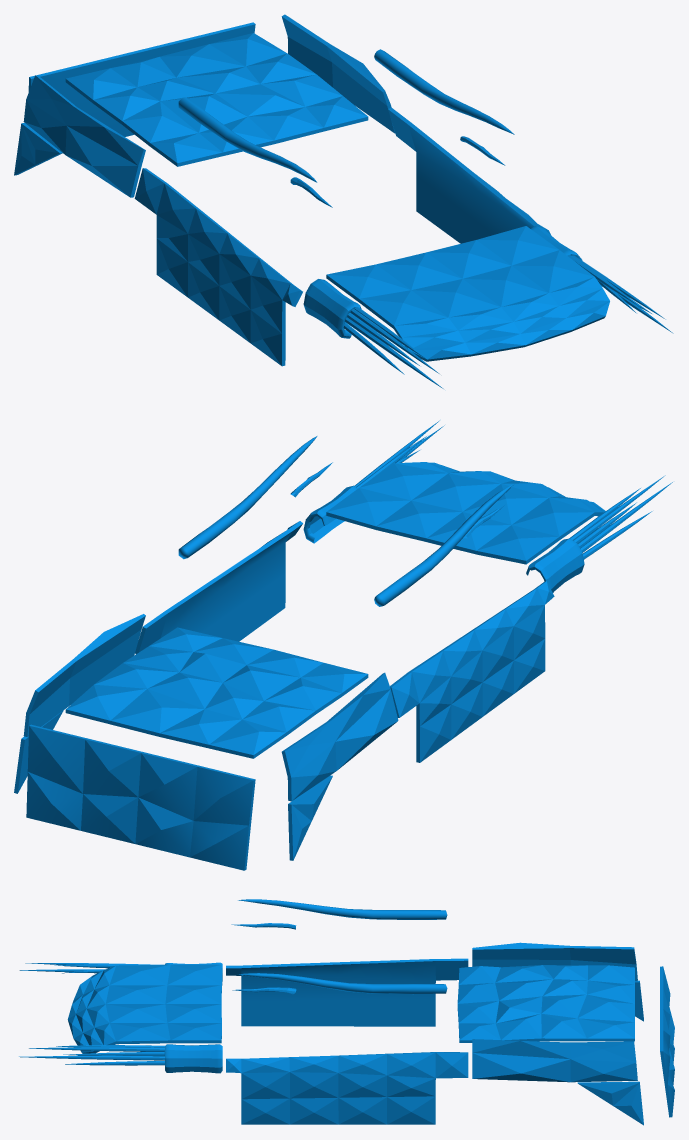
The model's file is Truck Armor.fbx.
3 views of the same model, one above another, from view 1: azimuth 30°, elevation 25°; view 2: azimuth 150°, elevation 25°; view 3: azimuth 270°, elevation 25° (orthographic). The views are drawn at different scales.
Parts seen in each view (by area): view 1: Armor_Panel_07_Geo, Armor_Panel_08_Geo, Right_side_Armor, left_side_Armor, back_right_armor, Front_Spikes, back_Left_armor, Armor_Panel_05_Geo, Spike_4_Geo, Spike_3_Geo, back_right_Low_armor; view 2: Armor_Panel_08_Geo, Armor_Panel_05_Geo, Armor_Panel_07_Geo, Right_side_Armor, left_side_Armor, back_right_armor, Front_Spikes, back_Left_armor, Spike_4_Geo, Spike_3_Geo, back_right_Low_armor, back_left_Low_armor; view 3: left_side_Armor, Armor_Panel_08_Geo, Right_side_Armor, Armor_Panel_07_Geo, back_Left_armor, Front_Spikes, back_right_armor, Spike_4_Geo, Spike_3_Geo, Armor_Panel_05_Geo, back_left_Low_armor.
Part boxes in pixels (left/top/right/bottom): Armor_Panel_07_Geo: left=326, top=226, right=609, bottom=361; Armor_Panel_08_Geo: left=65, top=33, right=368, bottom=166; Right_side_Armor: left=134, top=168, right=302, bottom=366; left_side_Armor: left=388, top=107, right=550, bottom=243; back_right_armor: left=23, top=75, right=145, bottom=197; Front_Spikes: left=303, top=226, right=673, bottom=388; back_Left_armor: left=281, top=14, right=395, bottom=133; Armor_Panel_05_Geo: left=28, top=22, right=255, bottom=136; Spike_4_Geo: left=374, top=49, right=514, bottom=134; Spike_3_Geo: left=178, top=97, right=317, bottom=182; back_right_Low_armor: left=14, top=123, right=62, bottom=175; Armor_Panel_08_Geo: left=65, top=627, right=368, bottom=758; Armor_Panel_05_Geo: left=26, top=724, right=255, bottom=870; Armor_Panel_07_Geo: left=326, top=462, right=605, bottom=564; Right_side_Armor: left=390, top=581, right=554, bottom=762; left_side_Armor: left=135, top=521, right=302, bottom=654; back_right_armor: left=281, top=672, right=398, bottom=801; Front_Spikes: left=303, top=420, right=672, bottom=592; back_Left_armor: left=23, top=614, right=145, bottom=736; Spike_4_Geo: left=178, top=436, right=317, bottom=559; Spike_3_Geo: left=374, top=484, right=514, bottom=606; back_right_Low_armor: left=288, top=775, right=332, bottom=860; back_left_Low_armor: left=14, top=710, right=63, bottom=793; left_side_Armor: left=226, top=1052, right=468, bottom=1124; Armor_Panel_08_Geo: left=457, top=965, right=634, bottom=1042; Right_side_Armor: left=226, top=958, right=468, bottom=1026; Armor_Panel_07_Geo: left=67, top=964, right=221, bottom=1053; back_Left_armor: left=472, top=1039, right=637, bottom=1082; Front_Spikes: left=19, top=962, right=222, bottom=1073; back_right_armor: left=472, top=942, right=637, bottom=981; Spike_4_Geo: left=237, top=973, right=447, bottom=994; Spike_3_Geo: left=238, top=899, right=447, bottom=919; Armor_Panel_05_Geo: left=660, top=966, right=674, bottom=1117; back_left_Low_armor: left=577, top=1081, right=643, bottom=1125.
Size of what is drawn, in the model's own units: 2.11 by 1.29 by 5.53.
